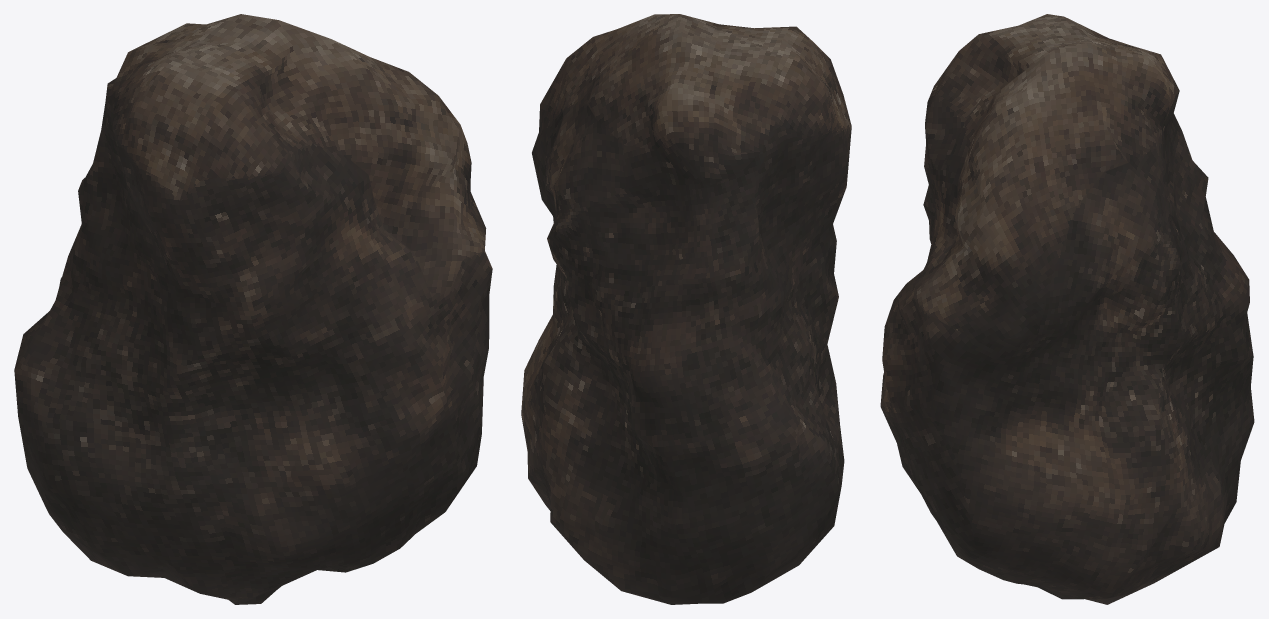
File: SM_RP2_Rock_4m_4.001.glb
3 views of the same model, side by side, from view 1: azimuth 30°, elevation 25°; view 2: azimuth 150°, elevation 25°; view 3: azimuth 270°, elevation 25° (orthographic). The views are drawn at different scales.
Visible parts, largest first — view 1: SM_RP2_Rock_4m_4.001; view 2: SM_RP2_Rock_4m_4.001; view 3: SM_RP2_Rock_4m_4.001.
Part boxes in pixels (box(x1,y1,x2,y2)): SM_RP2_Rock_4m_4.001: box(14, 14, 492, 604); SM_RP2_Rock_4m_4.001: box(521, 14, 851, 604); SM_RP2_Rock_4m_4.001: box(880, 14, 1254, 604).
Size of the model in its own units: 4.67 by 7.19 by 4.4.
1 material, 1 textured.
